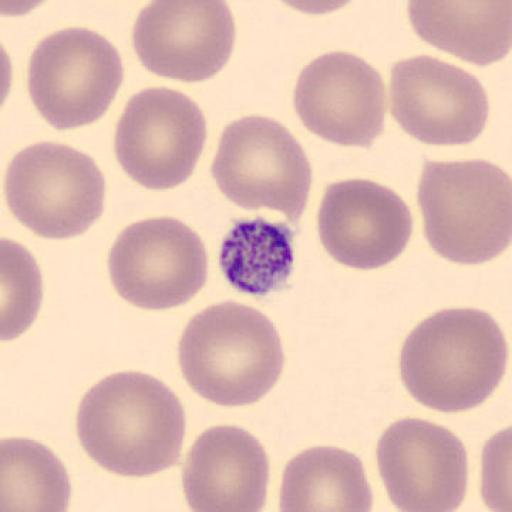Platelet: (215, 213, 298, 298)
RBC: (73, 368, 187, 480), (210, 112, 314, 232), (397, 304, 508, 415), (176, 297, 285, 410), (3, 139, 108, 243), (415, 156, 512, 266), (26, 25, 125, 132), (113, 84, 208, 192), (106, 215, 210, 313), (388, 52, 490, 148), (315, 175, 415, 272), (292, 49, 388, 150), (373, 414, 469, 512), (131, 0, 237, 85), (180, 423, 271, 512), (406, 0, 511, 68), (277, 443, 374, 512), (2, 434, 72, 512), (2, 236, 44, 342), (479, 421, 511, 512), (268, 0, 365, 17), (0, 38, 14, 116), (2, 0, 54, 18)
